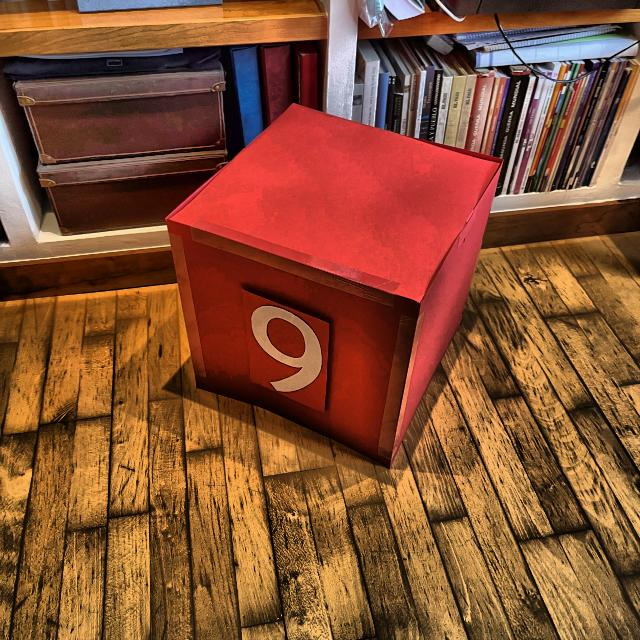nine: (250, 302, 324, 397)
red box: (169, 97, 510, 474)
